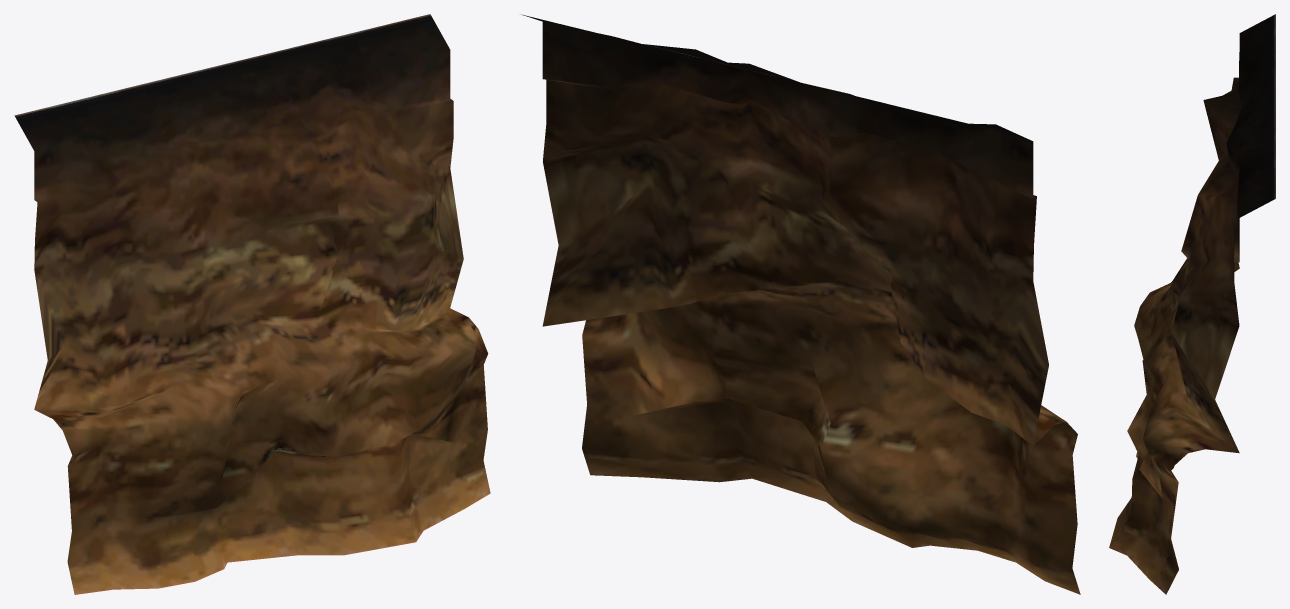
Rendered from tunnelWallC.fbx.
The picture shows the model from 3 angles, left to right: view 1: azimuth 30°, elevation 25°; view 2: azimuth 150°, elevation 25°; view 3: azimuth 270°, elevation 25°; orthographic projection. The views are drawn at different scales.
Visible parts, largest first — view 1: tunnelWallC; view 2: tunnelWallC; view 3: tunnelWallC.
Part boxes in pixels (<box>): tunnelWallC: <box>14,14,490,594</box>; tunnelWallC: <box>521,14,1080,594</box>; tunnelWallC: <box>1109,14,1275,594</box>.
Size of the model in its own units: 300 by 300 by 115.
